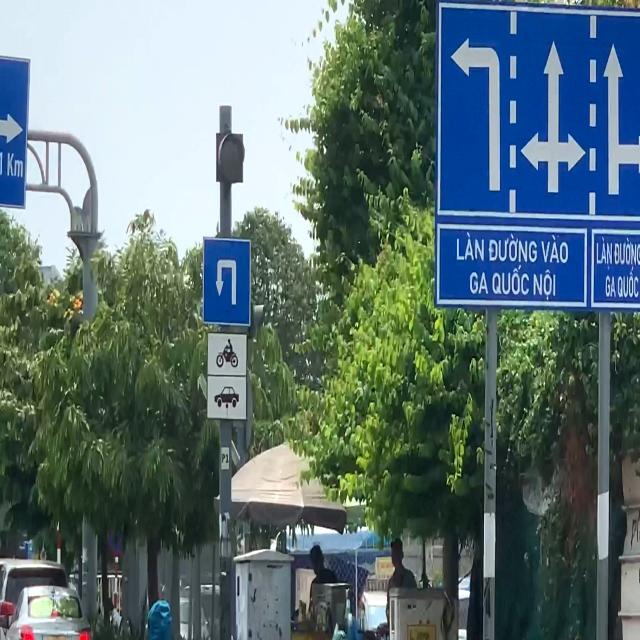R.409: (203, 236, 251, 327)
